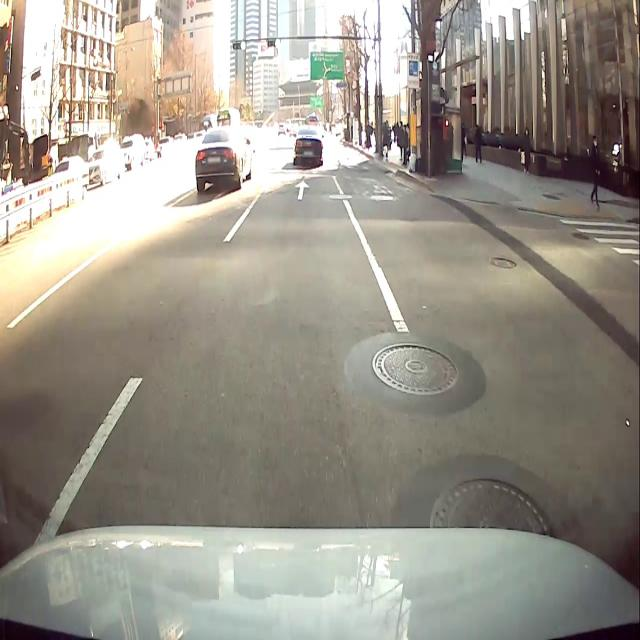Green Light: (275, 37, 281, 48), (240, 40, 246, 50)
